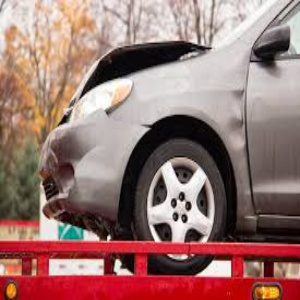bumper: (59, 109, 150, 219)
